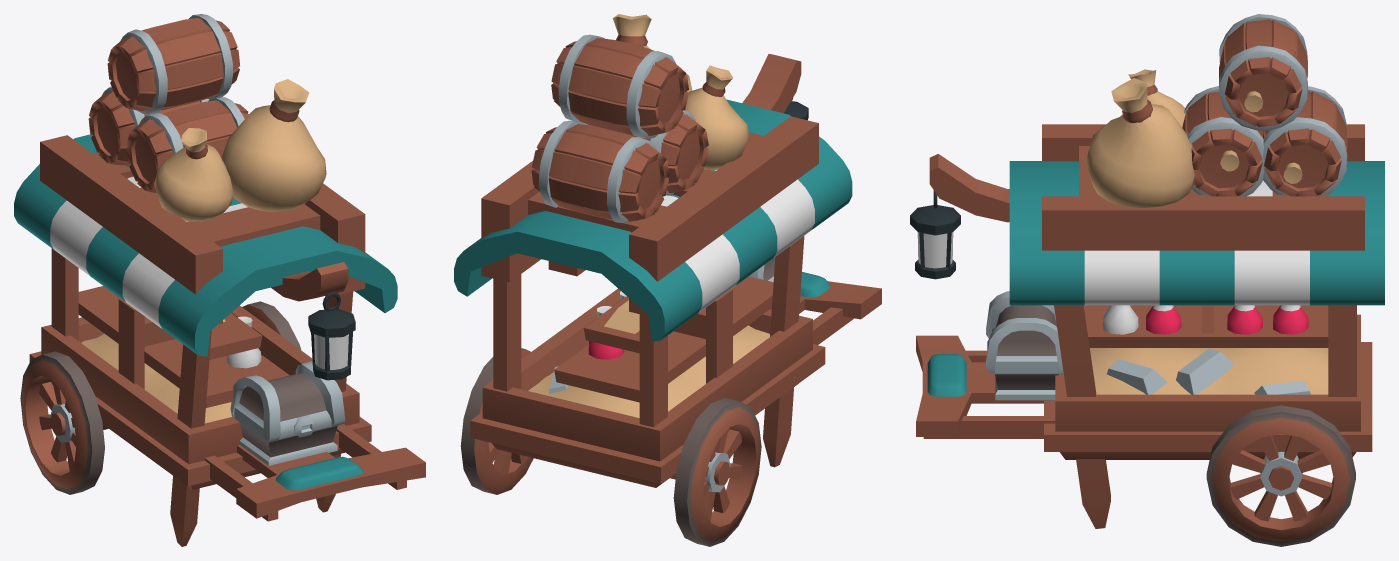
File: wagon.glb
3 renders of one model, left to right at view 1: azimuth 30°, elevation 25°; view 2: azimuth 150°, elevation 25°; view 3: azimuth 270°, elevation 25°, orthographic. The views are drawn at different scales.
Visible parts, largest first — view 1: wagon, wagonCargo, wagonWheels, wagonLantern; view 2: wagon, wagonCargo, wagonWheels; view 3: wagon, wagonCargo, wagonWheels, wagonLantern.
Part boxes in pixels (x1,y1,x2,y2): wagon: (14, 134, 425, 546); wagonCargo: (81, 14, 345, 465); wagonWheels: (20, 301, 301, 494); wagonLantern: (308, 292, 355, 380); wagon: (454, 54, 881, 487); wagonCargo: (528, 14, 775, 417); wagonWheels: (460, 348, 761, 546); wagon: (916, 124, 1384, 528); wagonCargo: (986, 14, 1347, 400); wagonWheels: (1206, 405, 1355, 546); wagonLantern: (910, 190, 960, 279).
Bounding box in the file's own units: 1.7 × 3.15 × 2.94.
